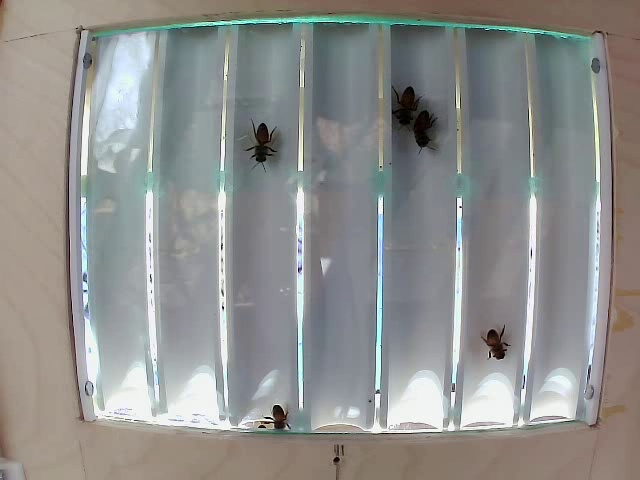bee: (242, 124, 294, 171), (409, 104, 446, 158), (476, 324, 522, 364), (273, 401, 307, 436), (388, 84, 412, 123)
